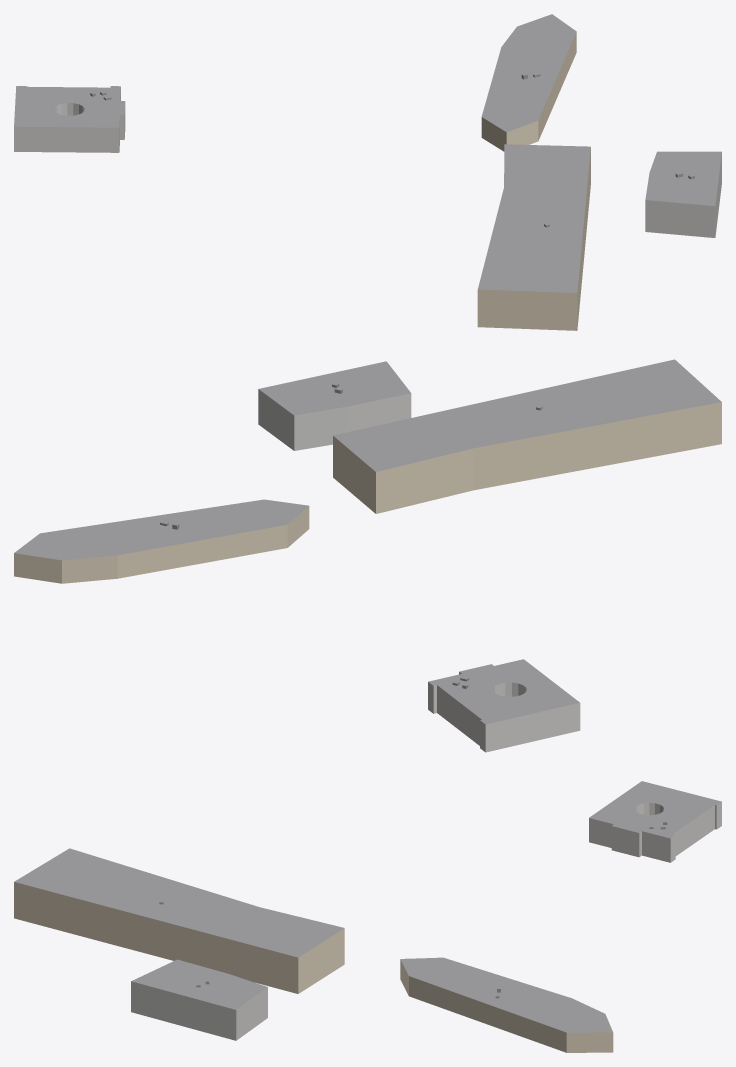
The model's file is building_-4_-1.glb.
The picture shows the model from 3 angles, top to bottom: view 1: azimuth 30°, elevation 25°; view 2: azimuth 150°, elevation 25°; view 3: azimuth 270°, elevation 25°; orthographic projection. The views are drawn at different scales.
Visible parts, largest first — view 1: roof, sandstone, concrete_light; view 2: roof, sandstone, concrete_light; view 3: roof, sandstone, concrete_light.
Boxes of the visible parts, x1,y1,x2,y2 form: roof: (14,14,721,292); sandstone: (477,32,590,330); concrete_light: (14,88,721,237); roof: (14,359,721,724); sandstone: (14,402,721,583); concrete_light: (258,389,580,752); roof: (14,781,721,1032); sandstone: (14,882,613,1052); concrete_light: (131,802,721,1040).
Size of the model in its own units: 261 by 18.93 by 316.
